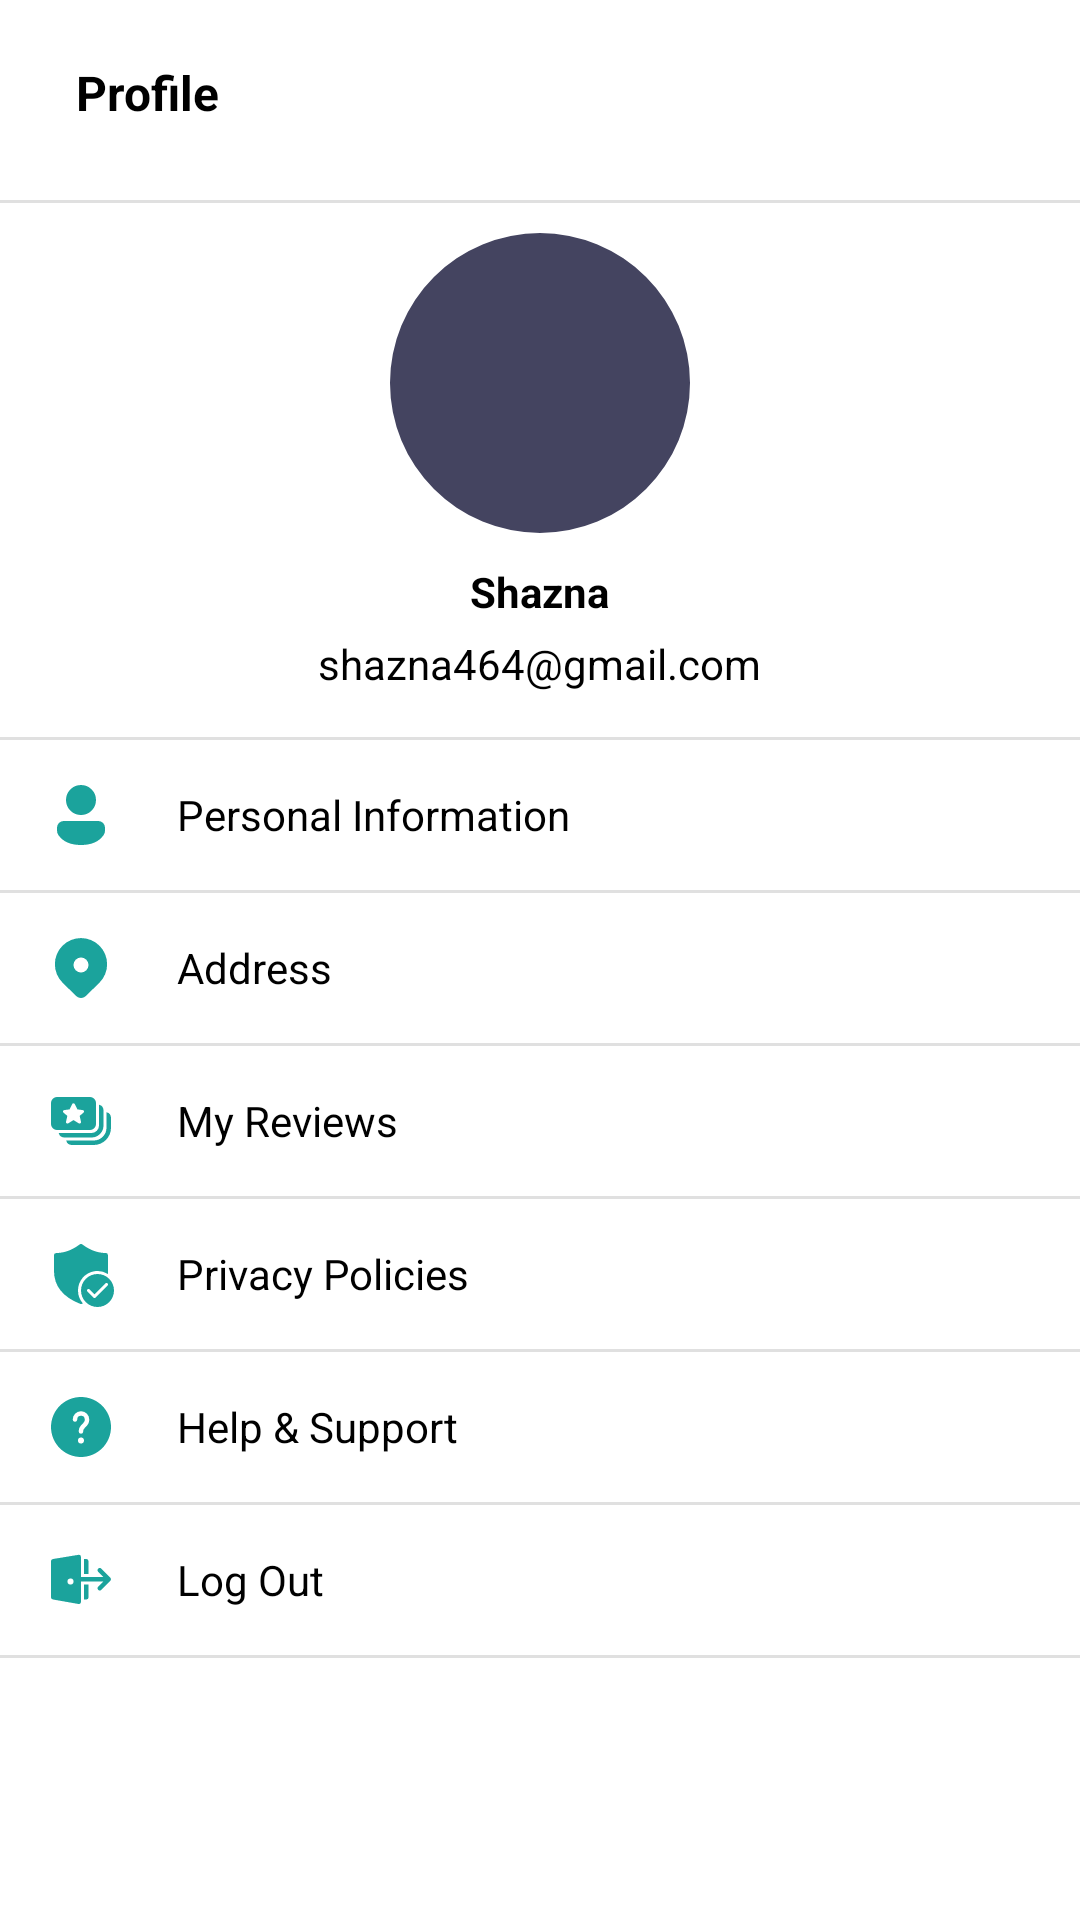

Icons on this 1080 x 1920 Android screen, each with its box as (x1, y1, x2, y2):
fluent location: (55, 938, 107, 998)
fluent person: (57, 785, 105, 845)
fluent question circle: (51, 1397, 111, 1457)
fluent shield checkmark: (54, 1244, 114, 1307)
fluent sign out: (51, 1554, 111, 1604)
fluent stack star: (51, 1097, 111, 1145)
